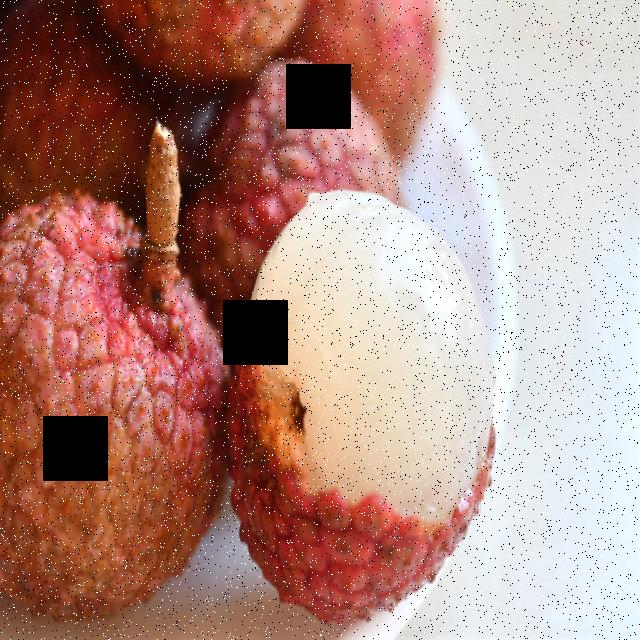lychee: (4, 120, 520, 635)
